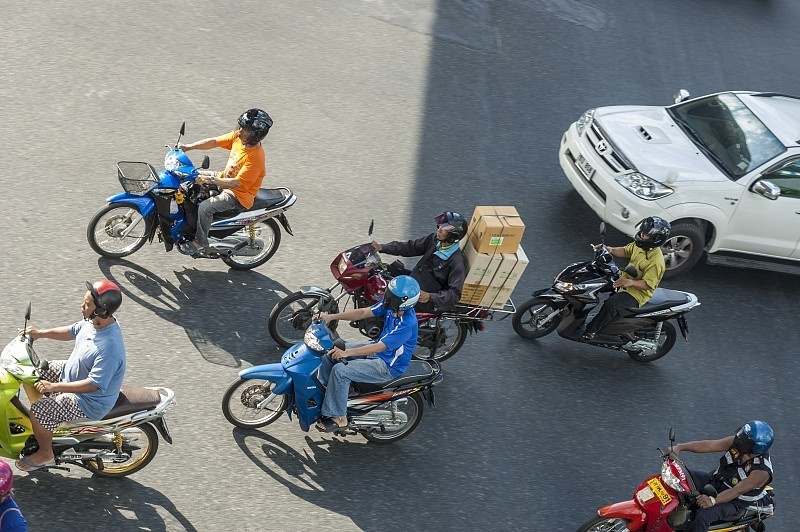non-vehicle: (82, 147, 311, 273), (0, 337, 182, 484), (227, 328, 457, 440), (570, 435, 793, 531), (520, 266, 703, 360)
